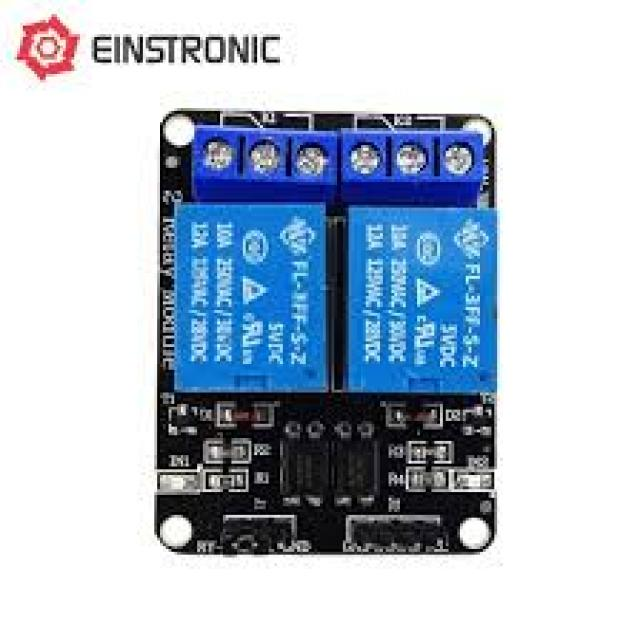Relay: (157, 108, 497, 560), (176, 206, 322, 390), (348, 210, 493, 393)
